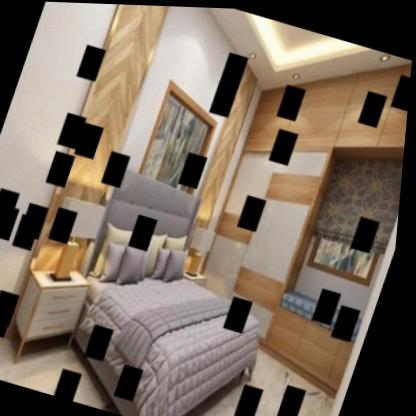Bed: (50, 168, 312, 416)
Lamp: (39, 188, 115, 289), (182, 218, 227, 278)
Nightstand: (0, 251, 106, 380)
